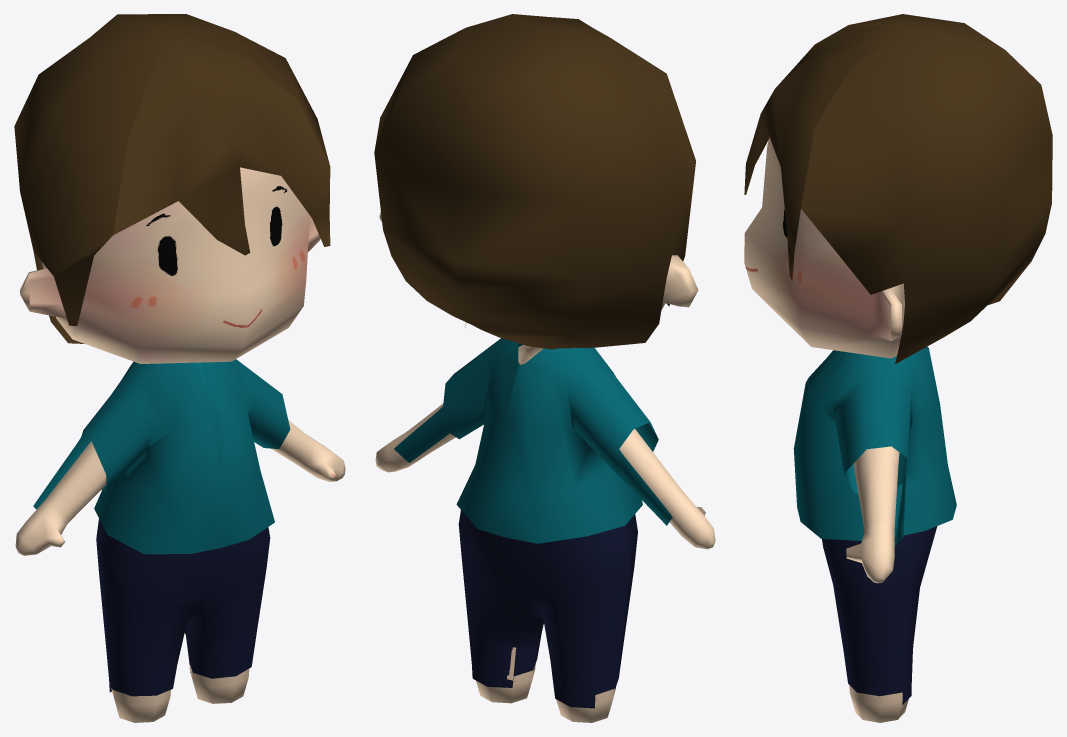
File: hanglekir.glb
3 renders of one model, left to right at view 1: azimuth 30°, elevation 25°; view 2: azimuth 150°, elevation 25°; view 3: azimuth 270°, elevation 25°, orthographic. The views are drawn at different scales.
Parts seen in each view (by area): view 1: Chibi_base.012, Chibi_base.011, Chibi_base.010, Chibi_base.001; view 2: Chibi_base.012, Chibi_base.010, Chibi_base.001, Chibi_base.011; view 3: Chibi_base.012, Chibi_base.010, Chibi_base.011, Chibi_base.001.
Part boxes in pixels (box(x1,y1,x2,y2)): Chibi_base.012: box(14, 14, 330, 343); Chibi_base.011: box(15, 167, 345, 722); Chibi_base.010: box(33, 359, 290, 554); Chibi_base.001: box(96, 519, 270, 696); Chibi_base.012: box(374, 14, 695, 349); Chibi_base.010: box(394, 338, 672, 543); Chibi_base.001: box(458, 510, 637, 708); Chibi_base.011: box(375, 211, 715, 722); Chibi_base.012: box(744, 14, 1052, 363); Chibi_base.010: box(793, 346, 956, 546); Chibi_base.011: box(744, 137, 908, 722); Chibi_base.001: box(822, 526, 937, 704).
Bounding box in the file's own units: 1.68 × 3.3 × 1.37.
4 materials, 1 textured.
